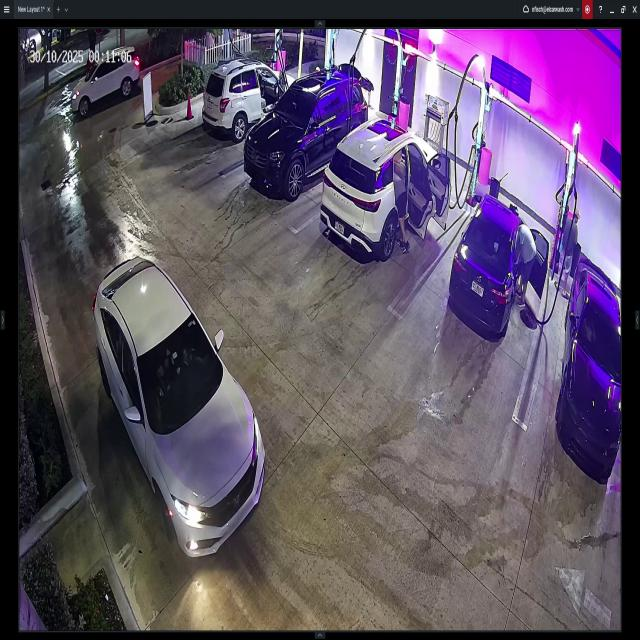Car: (96, 250, 266, 555), (324, 119, 452, 258), (244, 64, 367, 189), (451, 194, 550, 344), (560, 266, 621, 477), (203, 63, 295, 135), (68, 49, 141, 112)
